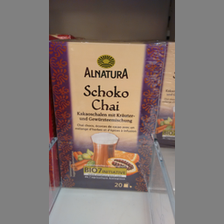tea: (49, 39, 166, 192)
